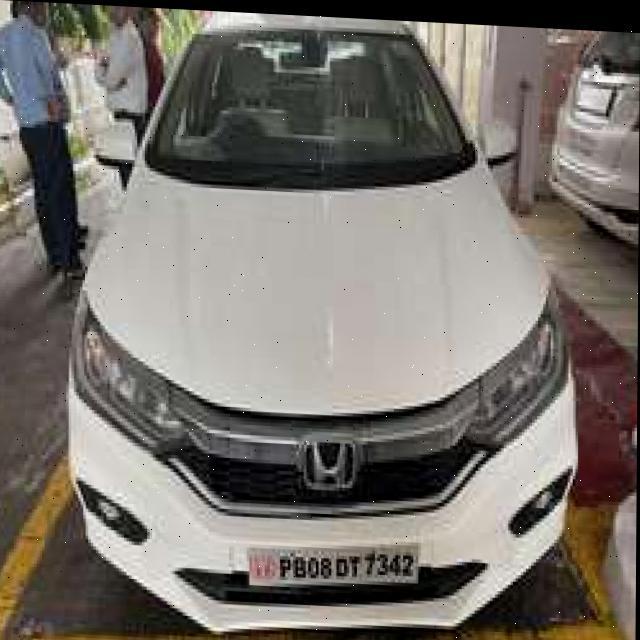plate: (247, 528, 421, 593)
